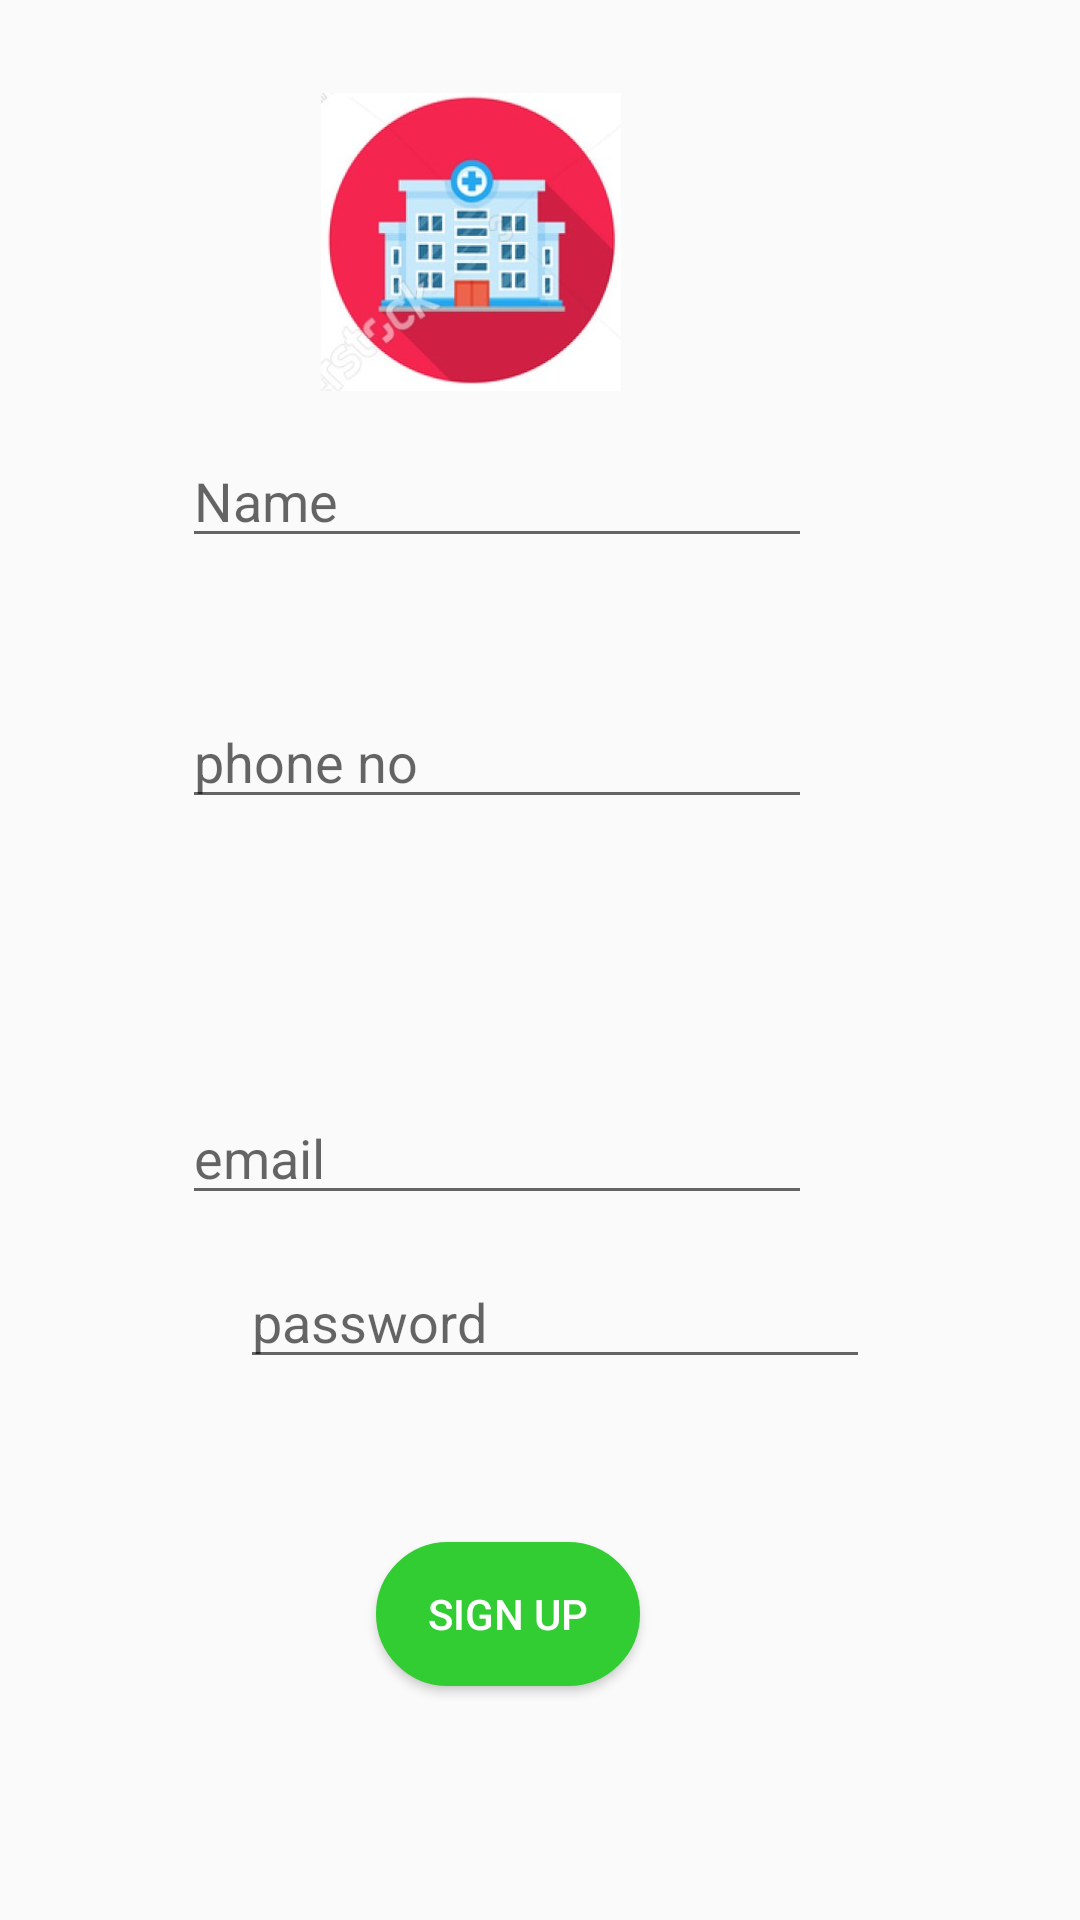

Icon bounding boxes for this 1080px×1920px phone screenshot, format (x1, y1, x2, y2):
hopital blood: (321, 95, 615, 384)
